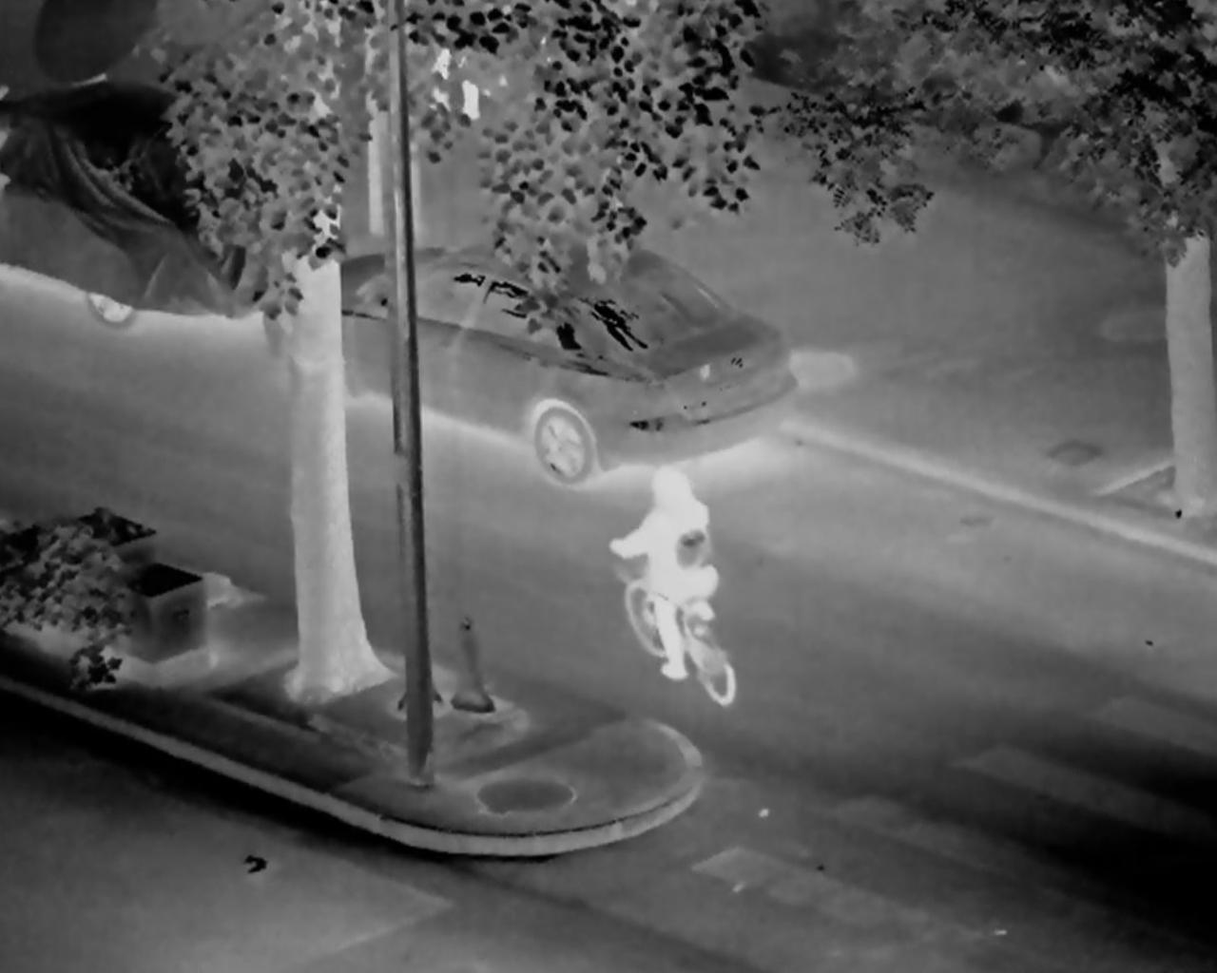person: (604, 459, 723, 696), (431, 17, 493, 137)
